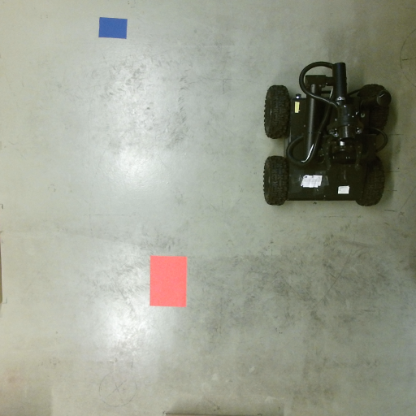Blue: (95, 14, 129, 40)
Jaguar: (263, 61, 390, 208)
Red: (147, 253, 190, 308)
